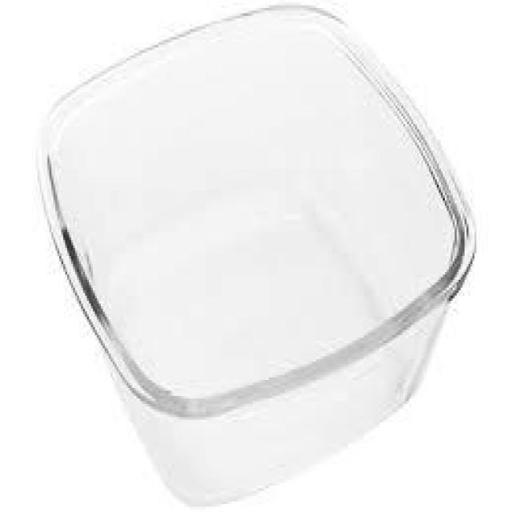glass: (22, 0, 488, 512)
